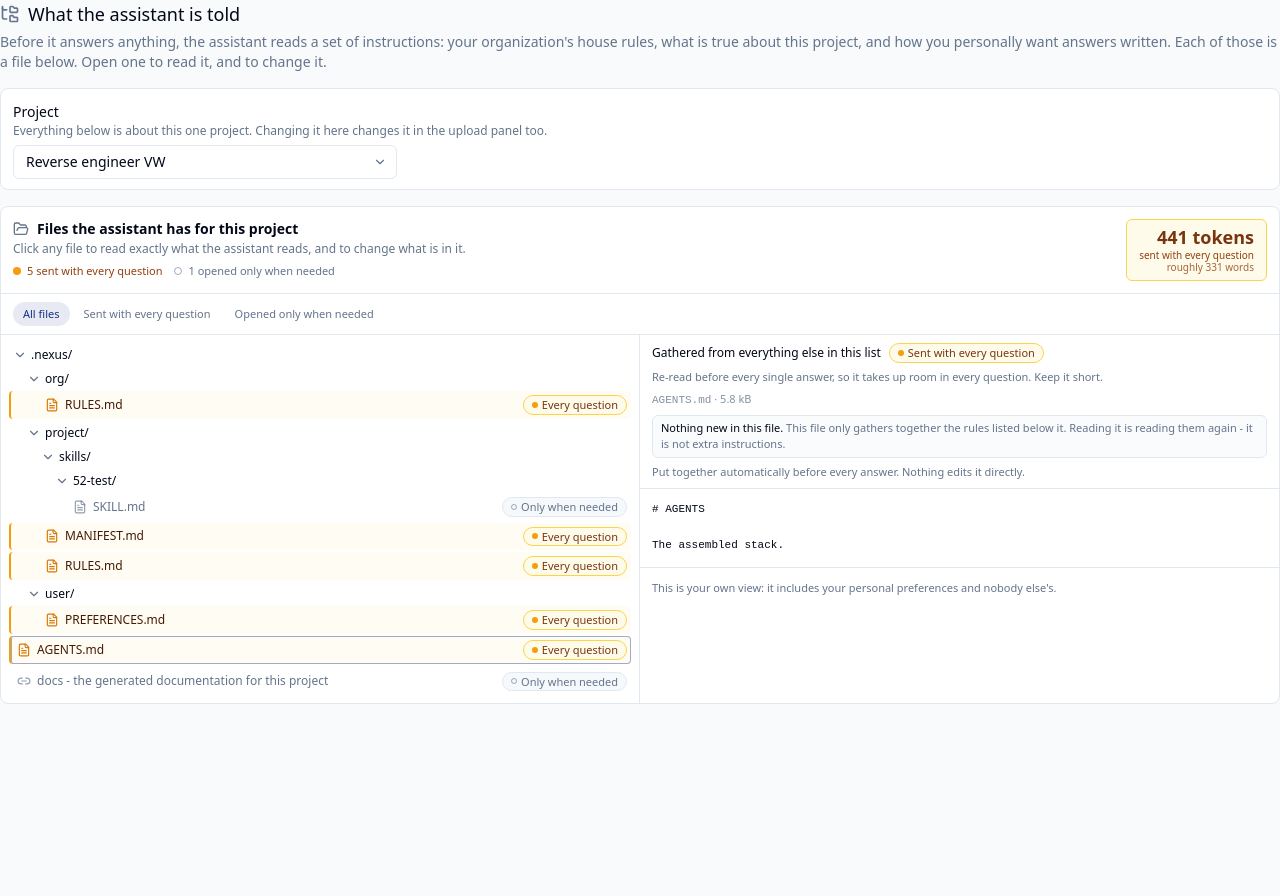
Test: ProjectStructurePanel › switches the add form's fields when the kind changes
Click the 2nd button "RULES.md Every question": coordinates (94, 566) [9, 552, 631, 580]
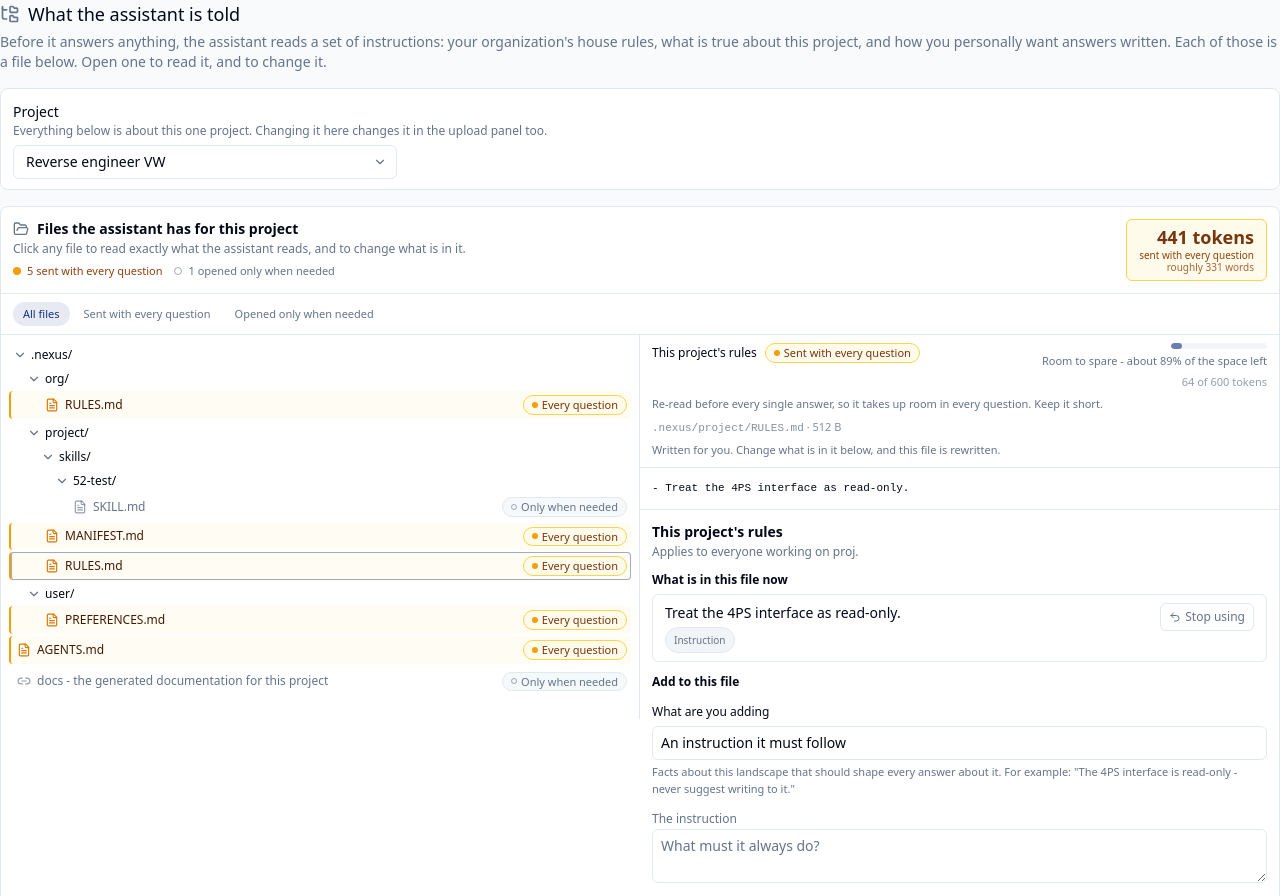
expect the field labelled "Term" is not shown: met
expect the text box labelled "The instruction" is shown: met, box [652, 829, 1267, 883]
expect the text "Facts about this landscape that should shape every answer" is shown: met, box [652, 764, 1237, 796]
Select "What a word means here" in the dropdown labelled "What are you adding": coordinates (960, 743) [652, 726, 1267, 760]
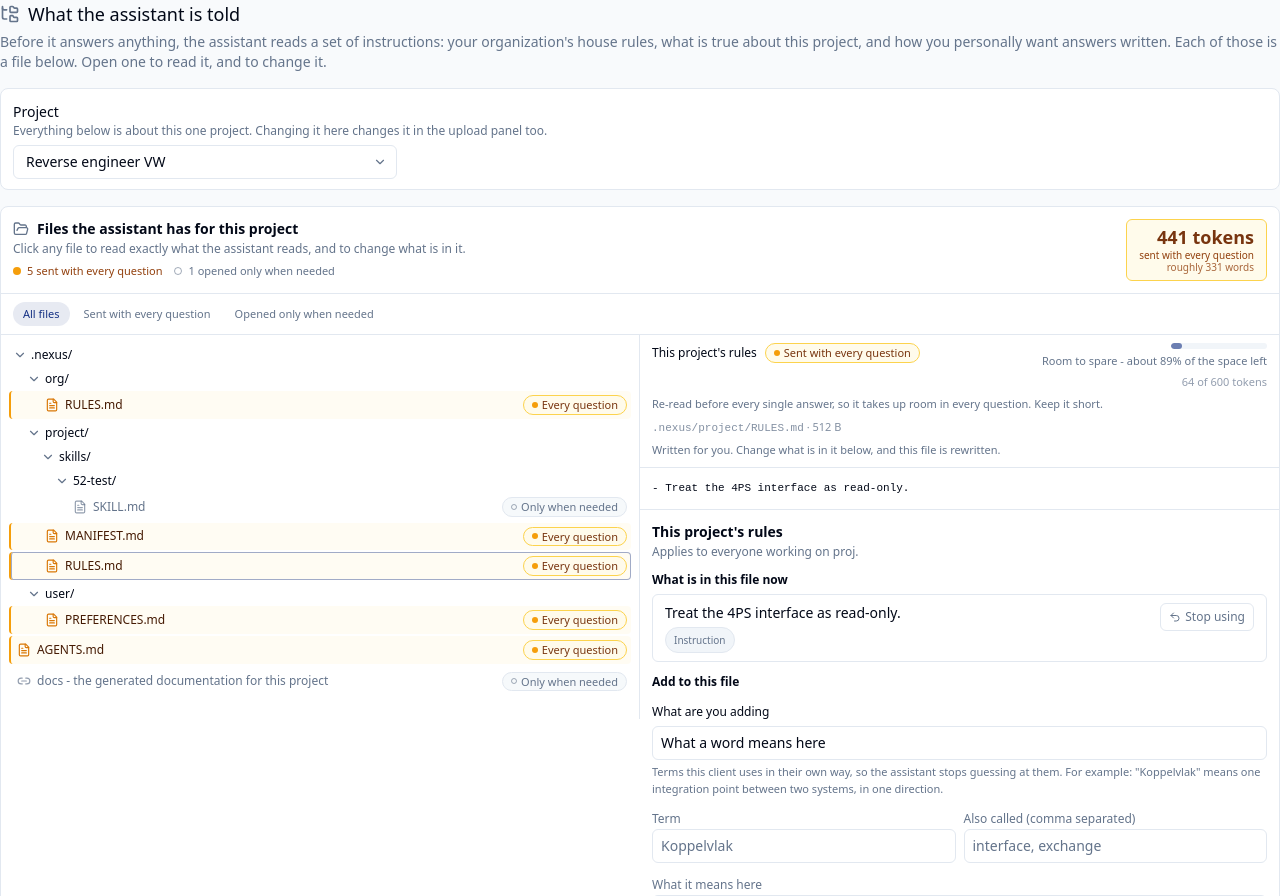
expect the field labelled "Term" is shown: met, box [652, 829, 956, 863]
expect the label labelled "The instruction" is gone: met
Select "What counts as proof" in the dropdown labelled "What are you adding": coordinates (960, 743) [652, 726, 1267, 760]
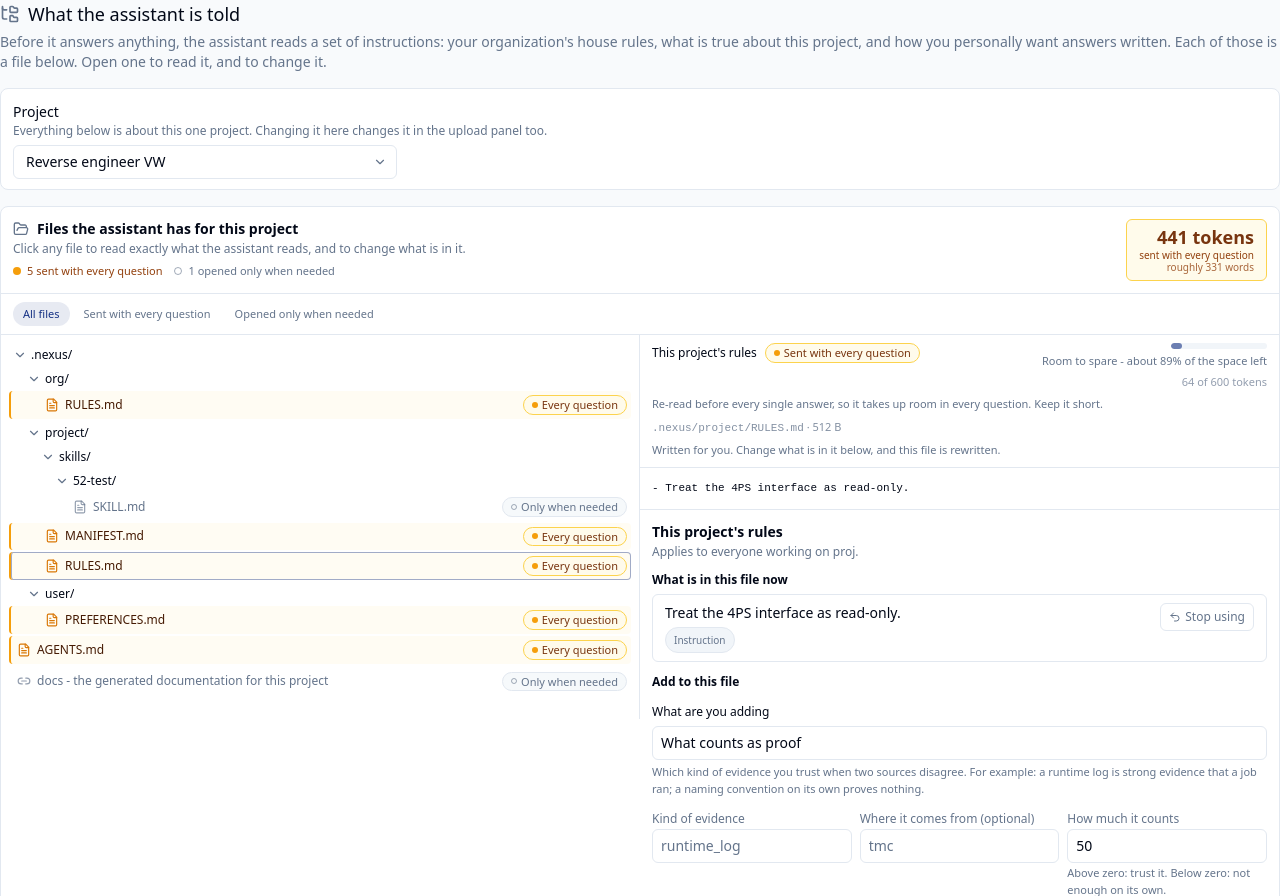
expect the field labelled "Kind of evidence" is shown: met, box [652, 829, 852, 863]
expect the number field labelled "How much it counts" is shown: met, box [1067, 829, 1267, 863]
expect the text labelled "Term" is gone: met
Select "How answers should be written" in the dropdown labelled "What are you adding": coordinates (960, 743) [652, 726, 1267, 760]
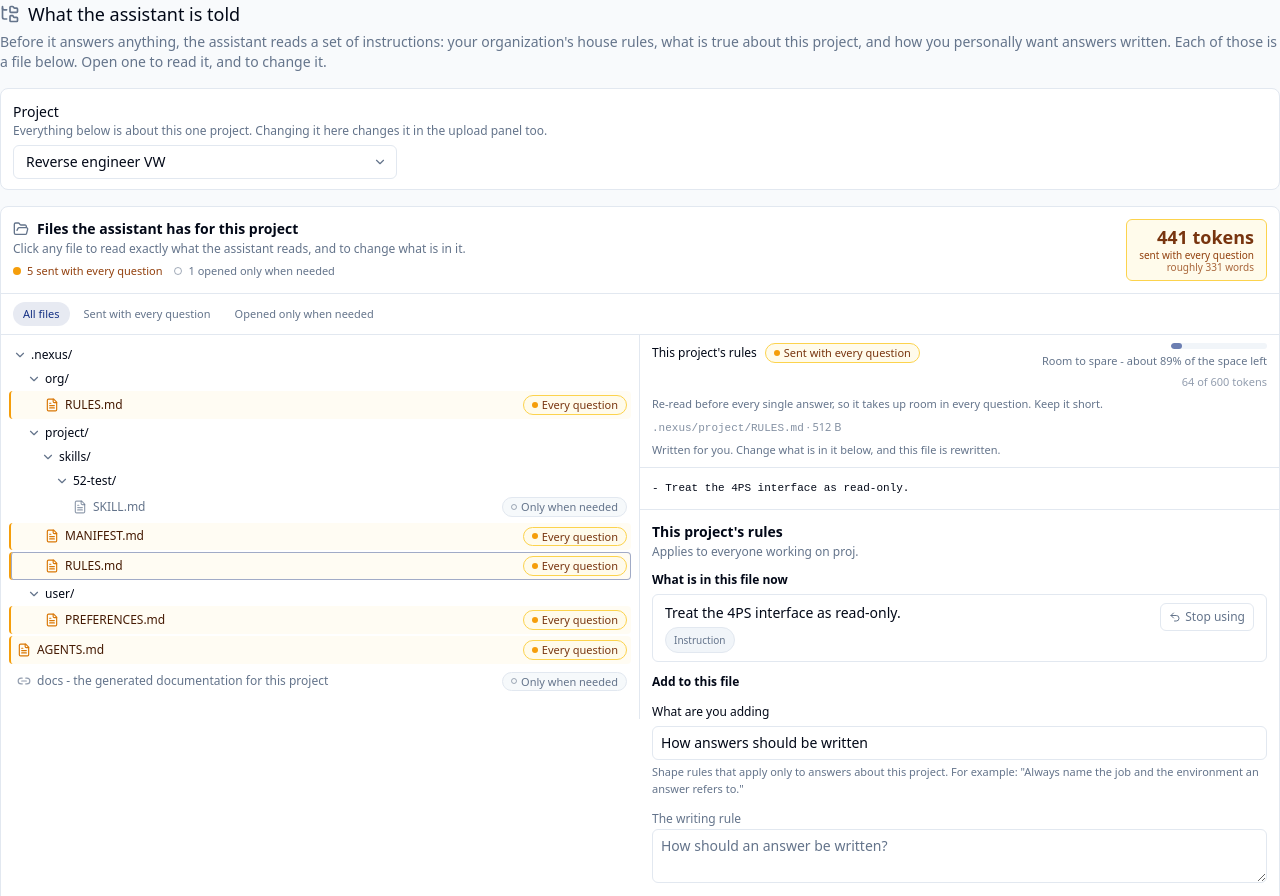
expect the text box labelled "The writing rule" is shown: met, box [652, 829, 1267, 883]
